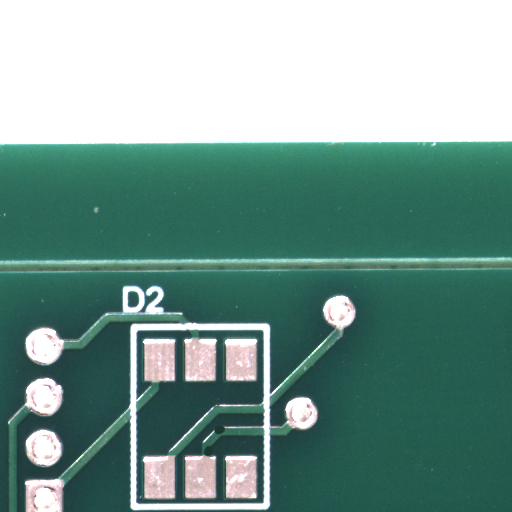Mouse_bite: (220, 430, 231, 440), (208, 451, 217, 460)
